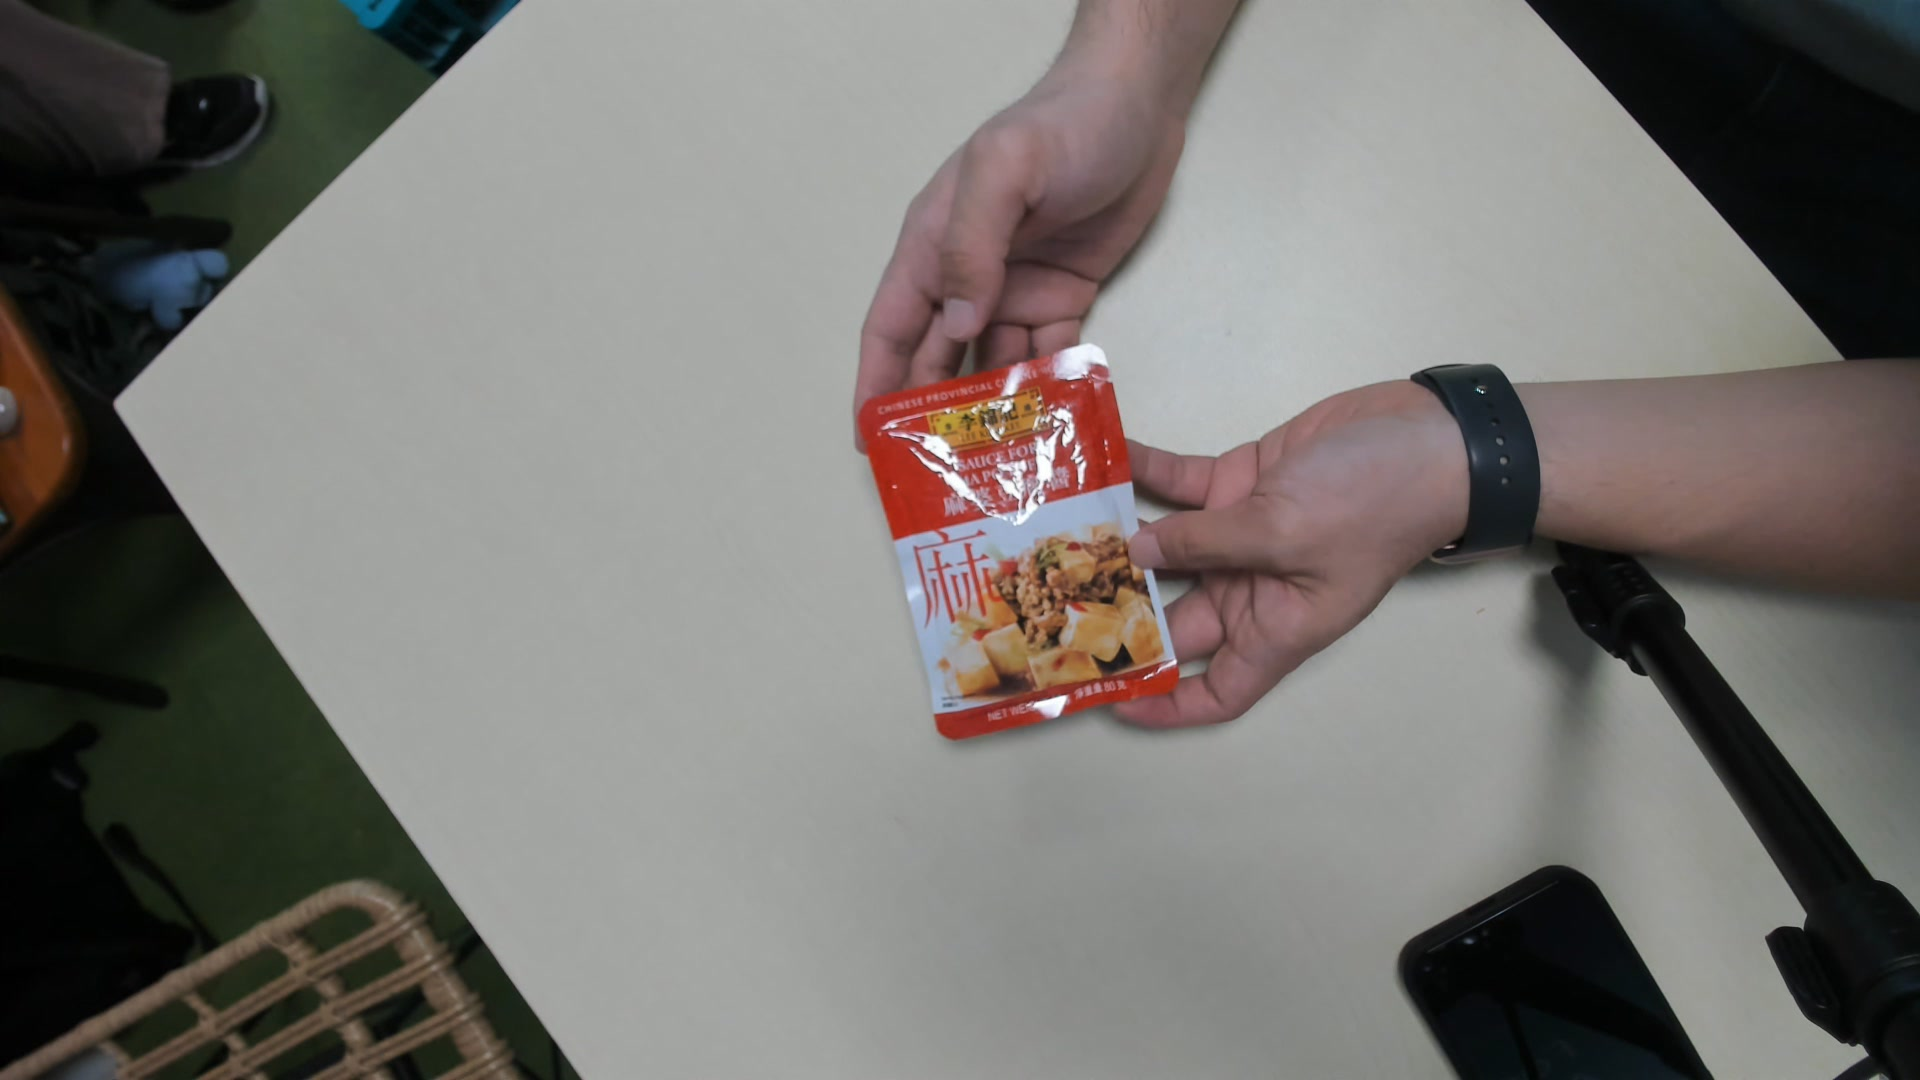OtherSauceDressing_0-99g_NonHalal_NonHealthy: (855, 343, 1178, 749)
